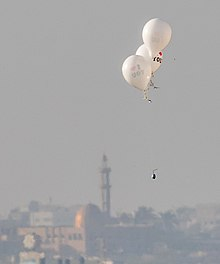Balloon: (122, 56, 155, 91), (143, 19, 171, 55)
